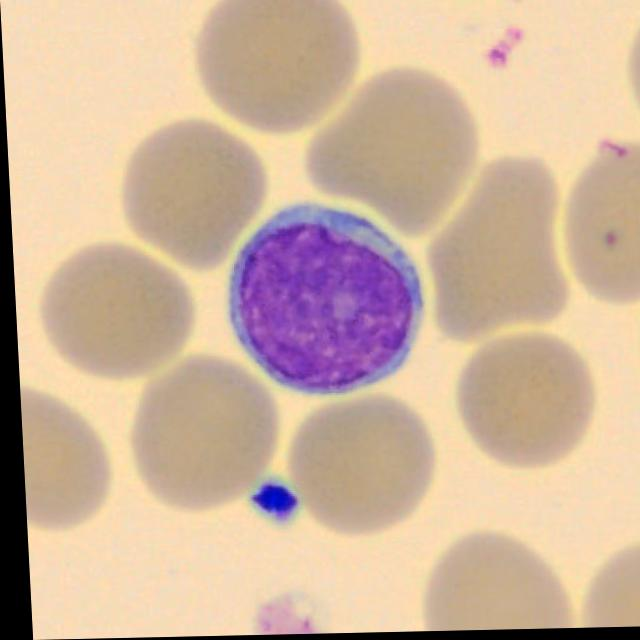Linfocito atipico: (224, 204, 421, 395)
